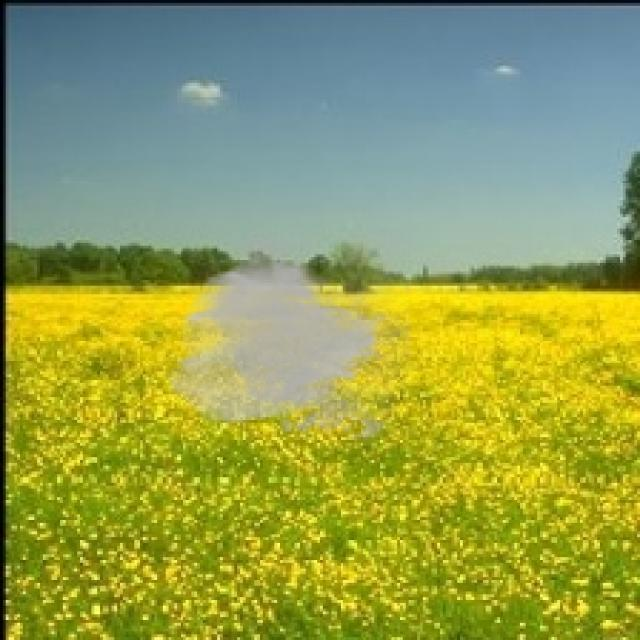Smoke: (162, 228, 412, 448)
